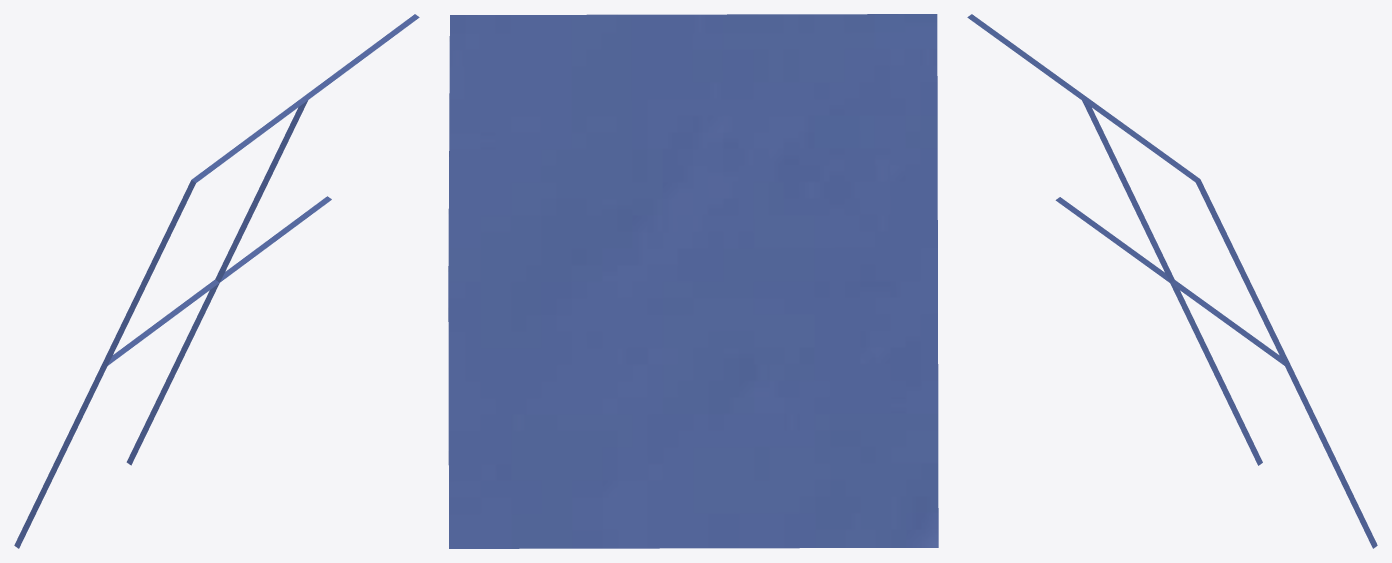
The picture shows the model from 3 angles, left to right: view 1: azimuth 30°, elevation 25°; view 2: azimuth 150°, elevation 25°; view 3: azimuth 270°, elevation 25°; orthographic projection. The views are drawn at different scales.
Bounding box in the file's own units: 19639 × 17958 × 16239.
Materials: 1 (1 with a texture image).
